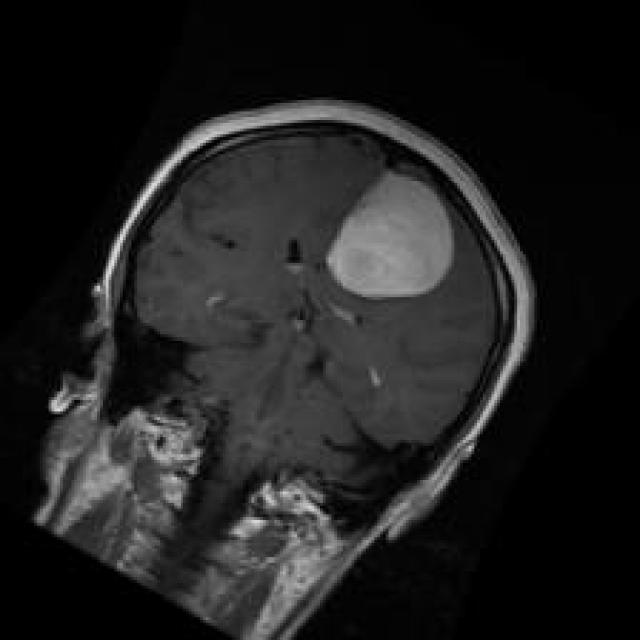meningioma_tumor: (317, 160, 469, 320)
